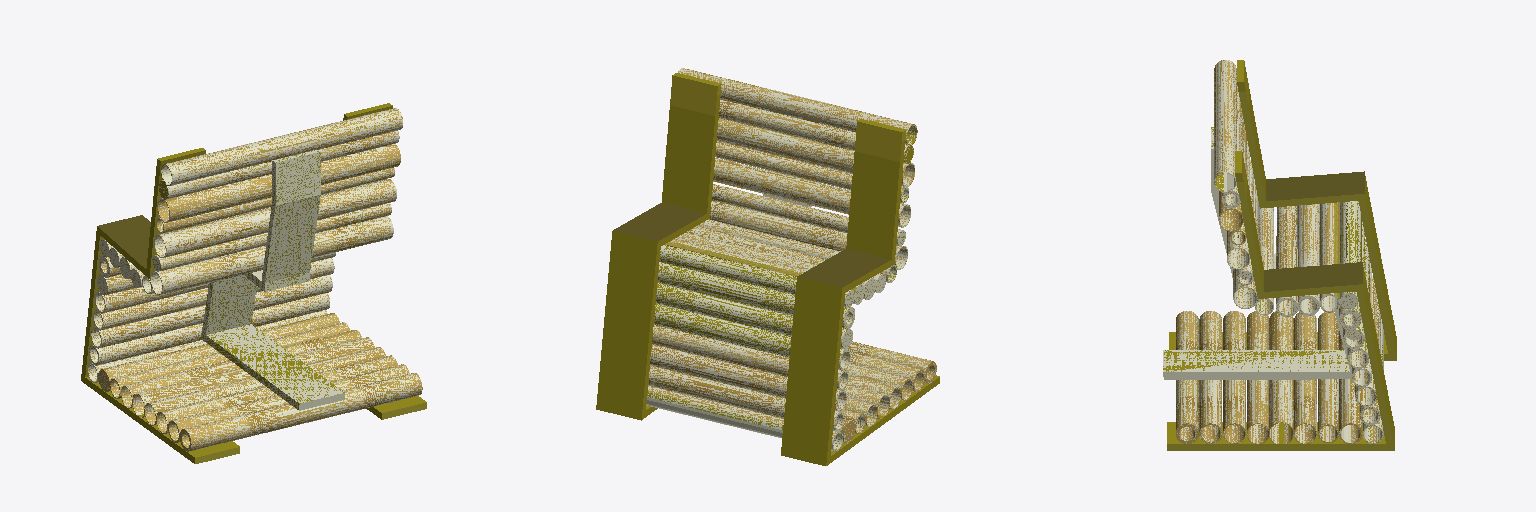
The picture shows the model from 3 angles: view 1: azimuth 30°, elevation 25°; view 2: azimuth 150°, elevation 25°; view 3: azimuth 270°, elevation 25°; orthographic projection.
Parts seen in each view (by area): view 1: mesh17_mesh17-geometry, mesh12_mesh12-geometry, mesh5_mesh5-geometry, mesh16_mesh16-geometry, mesh3_mesh3-geometry, mesh11_mesh11-geometry, mesh8_mesh8-geometry, mesh15_mesh15-geometry, mesh13_mesh13-geometry, mesh6_mesh6-geometry, mesh14_mesh14-geometry, mesh9_mesh9-geometry (+3 smaller); view 2: mesh12_mesh12-geometry, mesh3_mesh3-geometry, mesh1_mesh1-geometry, mesh5_mesh5-geometry, mesh16_mesh16-geometry, mesh13_mesh13-geometry, mesh15_mesh15-geometry, mesh14_mesh14-geometry, mesh8_mesh8-geometry, mesh11_mesh11-geometry, mesh10_mesh10-geometry, mesh9_mesh9-geometry (+1 smaller); view 3: mesh12_mesh12-geometry, mesh1_mesh1-geometry, mesh3_mesh3-geometry, mesh17_mesh17-geometry, mesh8_mesh8-geometry, mesh5_mesh5-geometry, mesh6_mesh6-geometry, mesh11_mesh11-geometry, mesh10_mesh10-geometry, mesh9_mesh9-geometry, mesh7_mesh7-geometry, mesh13_mesh13-geometry (+2 smaller).
Boxes of the visible parts, x1,y1,x2,y2 form: mesh17_mesh17-geometry: [201, 150, 344, 410]; mesh12_mesh12-geometry: [88, 207, 335, 382]; mesh5_mesh5-geometry: [159, 108, 402, 199]; mesh16_mesh16-geometry: [156, 144, 400, 233]; mesh3_mesh3-geometry: [81, 148, 239, 463]; mesh11_mesh11-geometry: [180, 373, 422, 451]; mesh8_mesh8-geometry: [132, 337, 385, 425]; mesh15_mesh15-geometry: [154, 179, 396, 257]; mesh13_mesh13-geometry: [142, 216, 393, 294]; mesh6_mesh6-geometry: [98, 313, 350, 398]; mesh14_mesh14-geometry: [152, 203, 391, 271]; mesh9_mesh9-geometry: [156, 355, 397, 433]; mesh12_mesh12-geometry: [646, 226, 885, 451]; mesh3_mesh3-geometry: [781, 119, 939, 465]; mesh1_mesh1-geometry: [596, 73, 721, 420]; mesh5_mesh5-geometry: [678, 68, 917, 163]; mesh16_mesh16-geometry: [715, 118, 914, 202]; mesh13_mesh13-geometry: [698, 201, 907, 282]; mesh15_mesh15-geometry: [713, 158, 910, 227]; mesh14_mesh14-geometry: [712, 184, 905, 246]; mesh8_mesh8-geometry: [844, 375, 900, 418]; mesh11_mesh11-geometry: [848, 341, 936, 383]; mesh10_mesh10-geometry: [850, 352, 924, 392]; mesh9_mesh9-geometry: [846, 364, 912, 400]; mesh12_mesh12-geometry: [1276, 201, 1383, 443]; mesh1_mesh1-geometry: [1167, 151, 1394, 450]; mesh3_mesh3-geometry: [1169, 60, 1396, 360]; mesh17_mesh17-geometry: [1163, 127, 1351, 379]; mesh8_mesh8-geometry: [1247, 311, 1293, 443]; mesh5_mesh5-geometry: [1214, 60, 1240, 208]; mesh6_mesh6-geometry: [1318, 312, 1361, 443]; mesh11_mesh11-geometry: [1176, 311, 1198, 443]; mesh10_mesh10-geometry: [1199, 311, 1221, 443]; mesh9_mesh9-geometry: [1223, 311, 1245, 443]; mesh7_mesh7-geometry: [1294, 312, 1316, 443]; mesh13_mesh13-geometry: [1233, 179, 1273, 315].
Bounding box in the file's own units: 0.572 × 0.6526 × 0.4969.
28 materials, 25 textured.